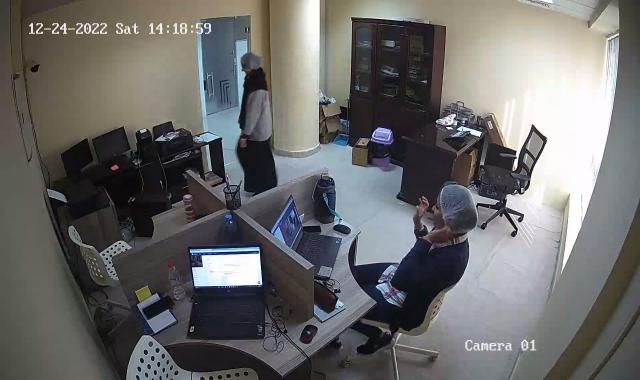hairnet: (437, 180, 477, 235), (240, 51, 261, 77)
